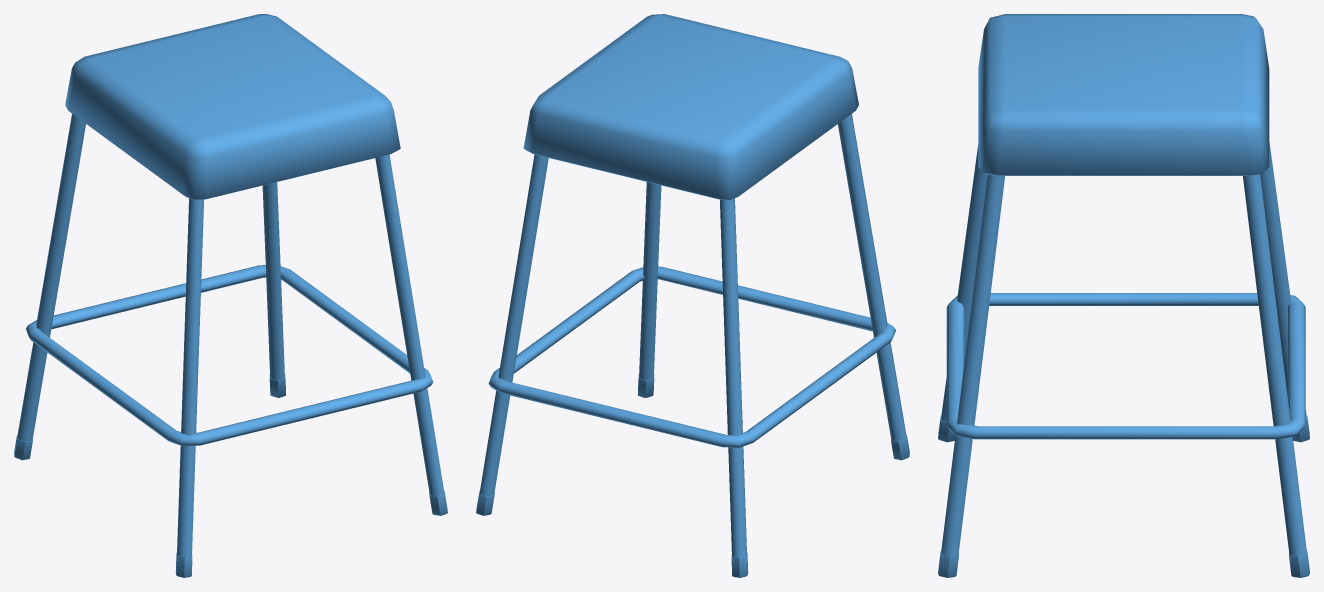
File: barStoolSquare.fbx
The picture shows the model from 3 angles, left to right: view 1: azimuth 30°, elevation 25°; view 2: azimuth 150°, elevation 25°; view 3: azimuth 270°, elevation 25°; orthographic projection. The views are drawn at different scales.
Visible parts, largest first — view 1: chair_01; view 2: chair_01; view 3: chair_01.
Part boxes in pixels (box(x1,y1,x2,y2)): chair_01: box(14, 14, 447, 577); chair_01: box(476, 14, 909, 577); chair_01: box(938, 14, 1309, 577).
Bounding box in the file's own units: 1.84 × 2.64 × 2.
